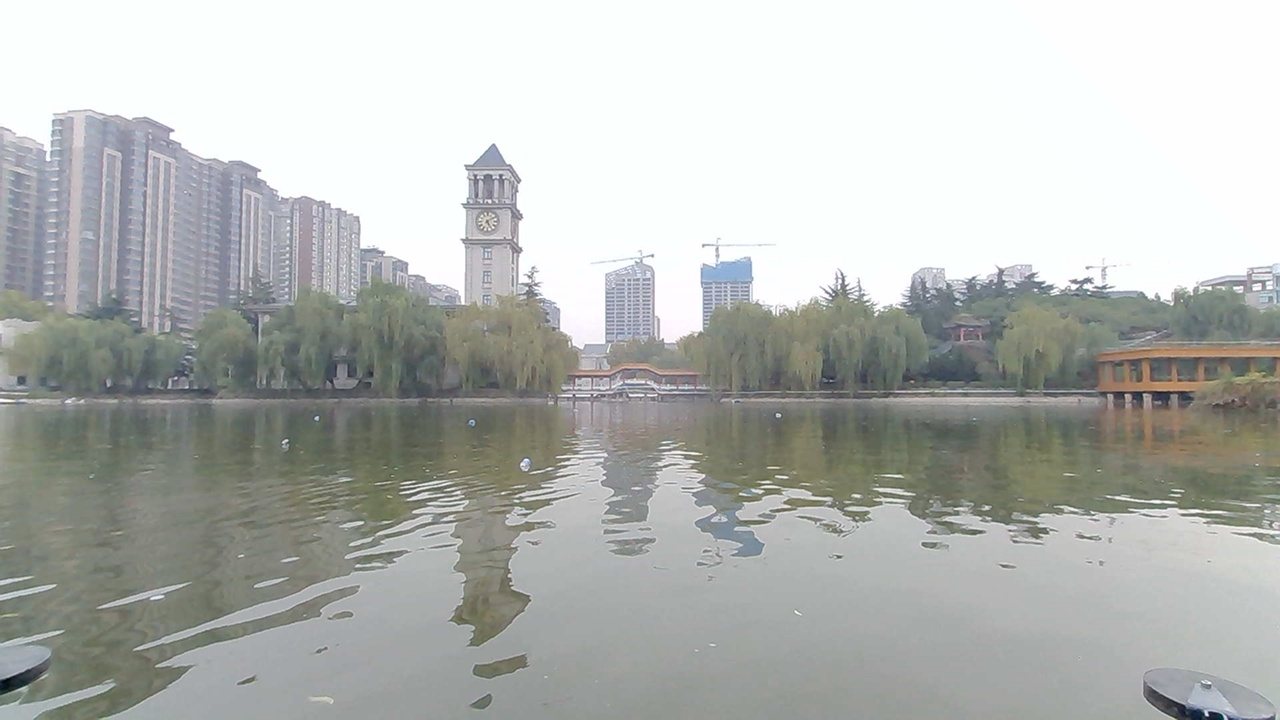bottle: (493, 446, 553, 479), (261, 430, 302, 453), (760, 403, 799, 426), (456, 408, 493, 432), (298, 405, 334, 429)
